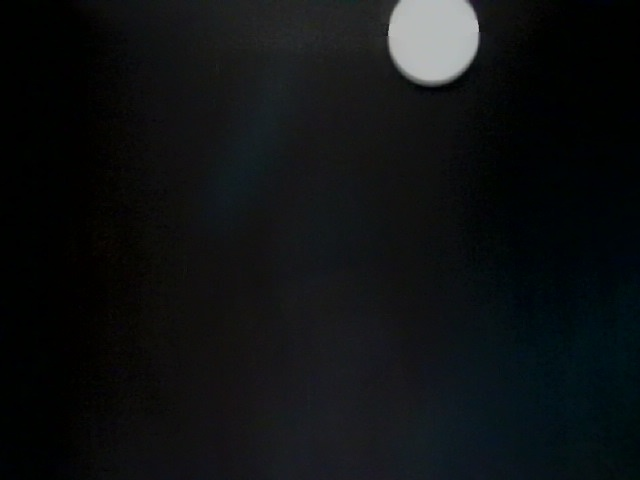QTLJ: (127, 135, 385, 399)
